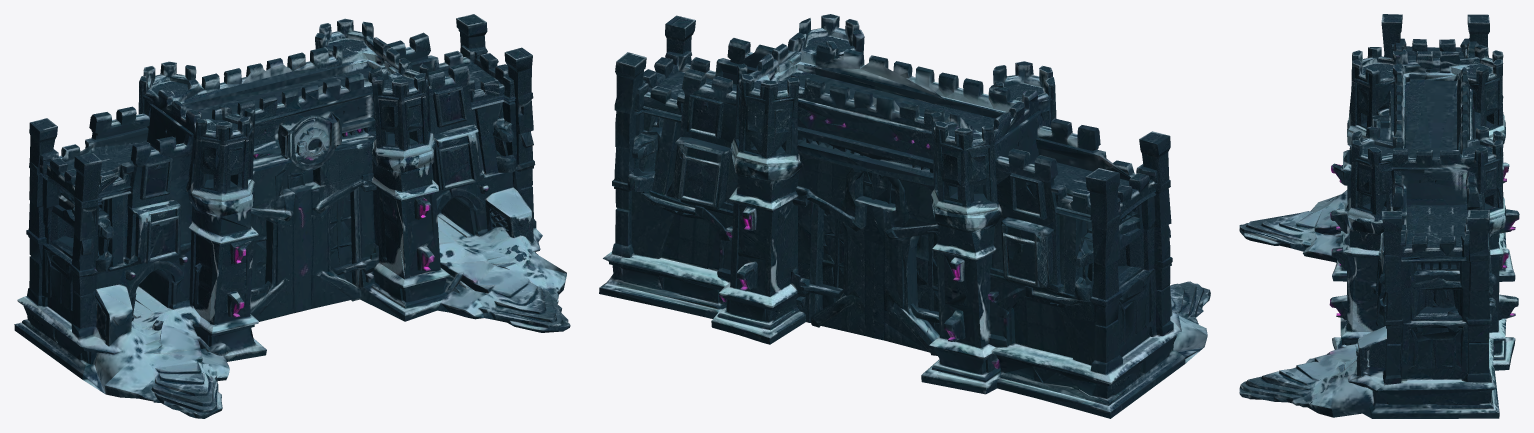
File: mx_sg_gate.glb
3 renders of one model, left to right at view 1: azimuth 30°, elevation 25°; view 2: azimuth 150°, elevation 25°; view 3: azimuth 270°, elevation 25°, orthographic. The views are drawn at different scales.
Bounding box in the file's own units: 1.9 × 0.8992 × 1.06.
1 material, 1 textured.
